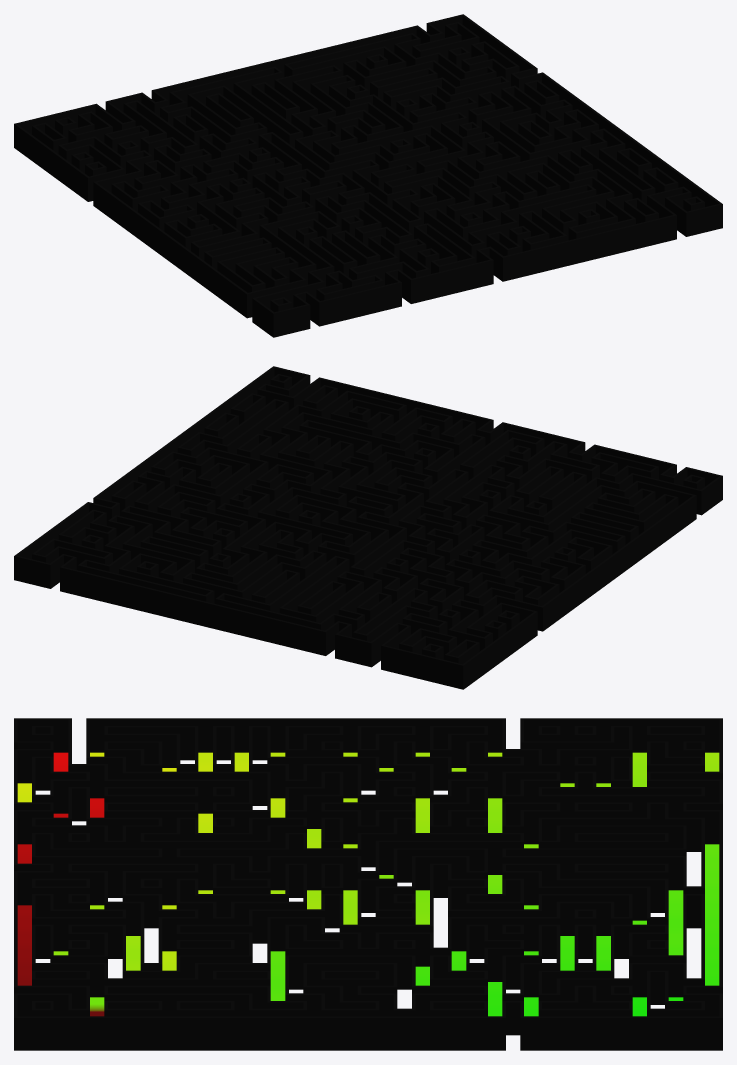
The model's file is Maze3.fbx.
3 renders of one model, top to bottom at view 1: azimuth 30°, elevation 25°; view 2: azimuth 150°, elevation 25°; view 3: azimuth 270°, elevation 25°, orthographic. The views are drawn at different scales.
Parts seen in each view (by area): view 1: MG_Walls; view 2: MG_Walls; view 3: MG_Walls, MG_Cells.
Part boxes in pixels (x1,y1,x2,y2): MG_Walls: [14, 14, 722, 337]; MG_Walls: [14, 366, 722, 689]; MG_Walls: [14, 718, 722, 1050]; MG_Cells: [17, 752, 719, 1016].
Bounding box in the file's own units: 1960 × 100 × 1960.
